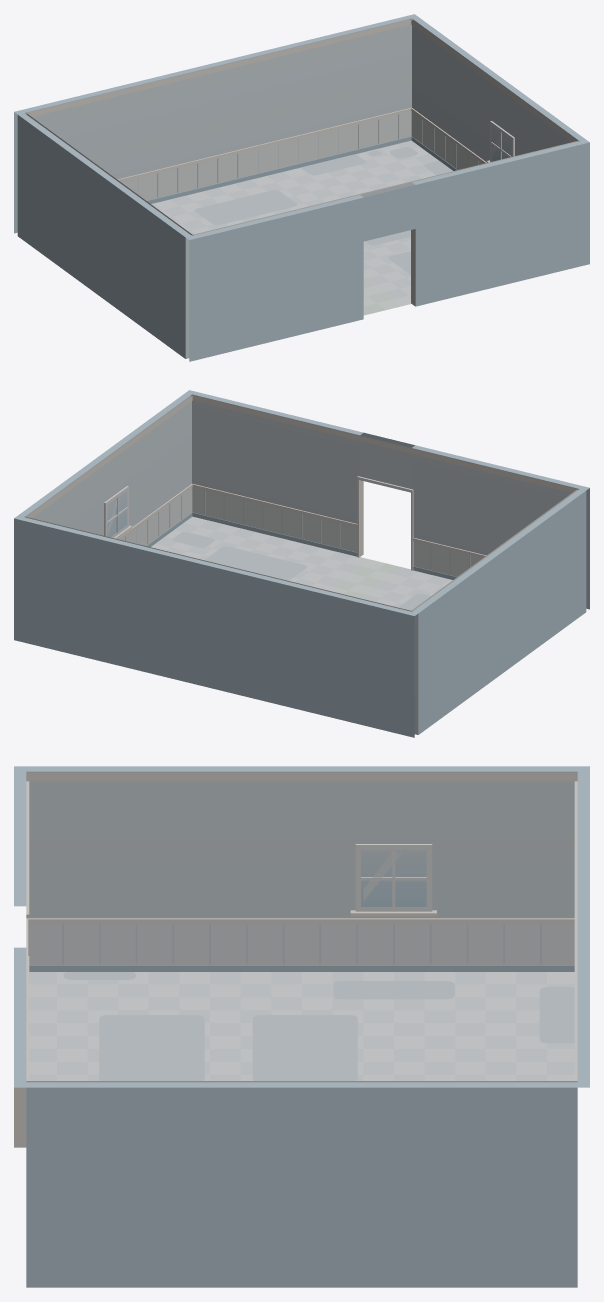
File: makmal_interior_shell.glb
3 views of the same model, one above another, from view 1: azimuth 30°, elevation 25°; view 2: azimuth 150°, elevation 25°; view 3: azimuth 270°, elevation 25° (orthographic). The views are drawn at different scales.
Parts seen in each view (by area): view 1: dinding_selatan, dinding_utara, dinding_barat, lantai, dinding_timur; view 2: dinding_utara, dinding_selatan, dinding_barat, dinding_timur, lantai; view 3: dinding_timur, dinding_barat, lantai, dinding_selatan, dinding_utara.
Boxes of the visible parts, left/top/right/bottom form: dinding_selatan: left=185, top=140, right=589, bottom=361; dinding_utara: left=14, top=14, right=417, bottom=233; dinding_barat: left=17, top=113, right=193, bottom=358; lantai: left=151, top=140, right=453, bottom=315; dinding_timur: left=410, top=17, right=585, bottom=170; dinding_utara: left=14, top=516, right=418, bottom=737; dinding_selatan: left=186, top=390, right=589, bottom=609; dinding_barat: left=410, top=489, right=586, bottom=734; dinding_timur: left=18, top=393, right=193, bottom=546; lantai: left=151, top=516, right=452, bottom=610; dinding_timur: left=26, top=1081, right=577, bottom=1287; dinding_barat: left=26, top=766, right=577, bottom=971; lantai: left=29, top=972, right=574, bottom=1080; dinding_selatan: left=14, top=766, right=29, bottom=1147; dinding_utara: left=574, top=766, right=589, bottom=1087.
Size of the model in its own units: 12.4 by 3.6 by 9.4.
